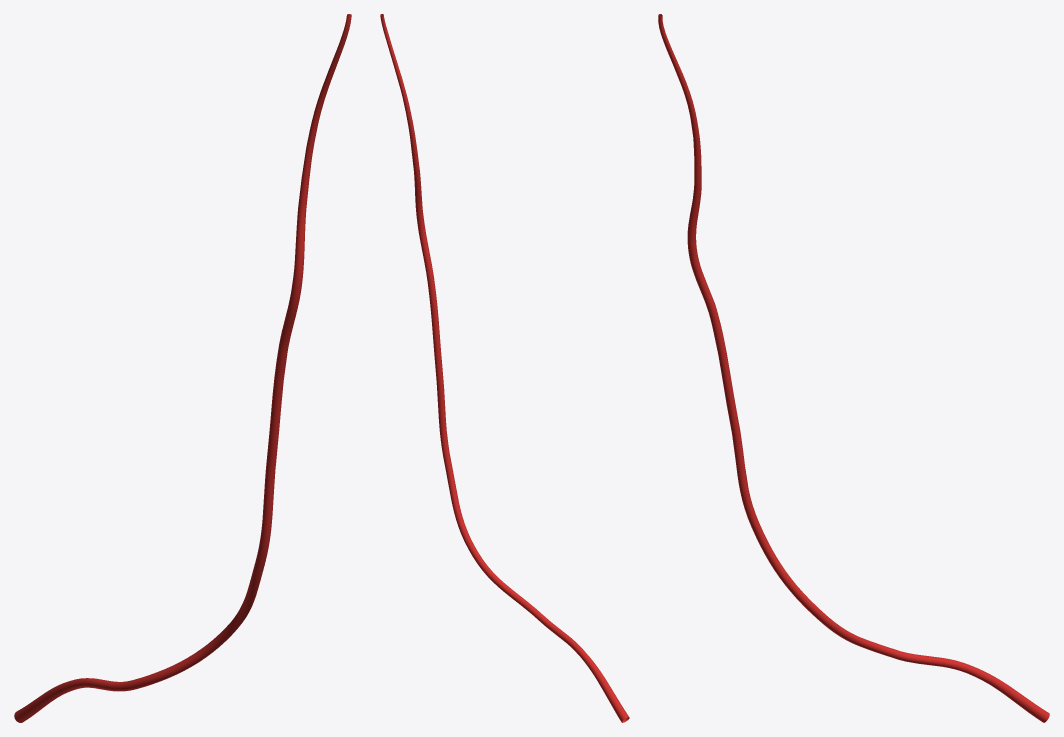
The model's file is circulatorio-inferior-epigastric-artery-r.glb.
3 views of the same model, side by side, from view 1: azimuth 30°, elevation 25°; view 2: azimuth 210°, elevation 25°; view 3: azimuth 270°, elevation 25° (orthographic). The views are drawn at different scales.
Visible parts, largest first — view 1: Inferior epigastric artery.r; view 2: Inferior epigastric artery.r; view 3: Inferior epigastric artery.r.
Part boxes in pixels (x1=…): Inferior epigastric artery.r: x1=14, y1=14, x2=351, y2=722; Inferior epigastric artery.r: x1=380, y1=14, x2=629, y2=722; Inferior epigastric artery.r: x1=658, y1=14, x2=1049, y2=722.
Bounding box in the file's own units: 0.0296 × 0.1875 × 0.0876.
